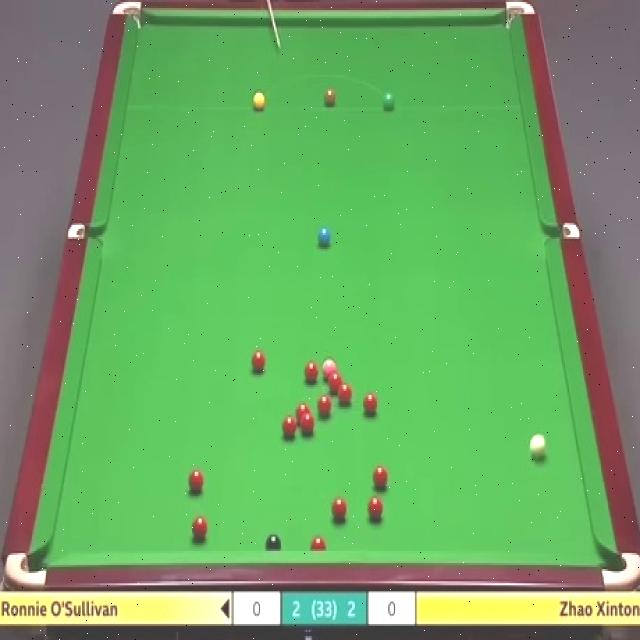black-ball: (265, 534, 283, 550)
blue-ball: (318, 228, 332, 245)
brown-ball: (325, 88, 336, 106)
green-ball: (381, 90, 396, 112)
pink-ball: (322, 358, 337, 379)
red-ball: (371, 466, 389, 491), (332, 496, 348, 523), (302, 362, 320, 383), (192, 518, 208, 541), (363, 392, 379, 415), (251, 347, 266, 371), (368, 497, 383, 521), (187, 470, 205, 490), (336, 382, 352, 404), (317, 395, 333, 417), (282, 414, 296, 439), (296, 403, 310, 423), (301, 413, 315, 433), (309, 536, 328, 550), (328, 371, 342, 390)
white-ball: (530, 437, 546, 460)
yellow-ball: (253, 91, 265, 112)
